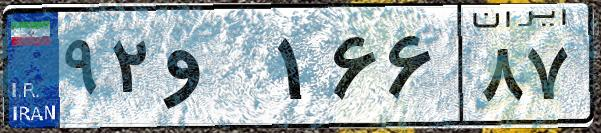1: (270, 28, 330, 110)
2: (110, 28, 158, 98)
6: (385, 28, 445, 110), (330, 28, 385, 110)
7: (525, 38, 570, 115)
8: (475, 38, 525, 113)
9: (57, 26, 110, 100)
و: (158, 20, 270, 120)
